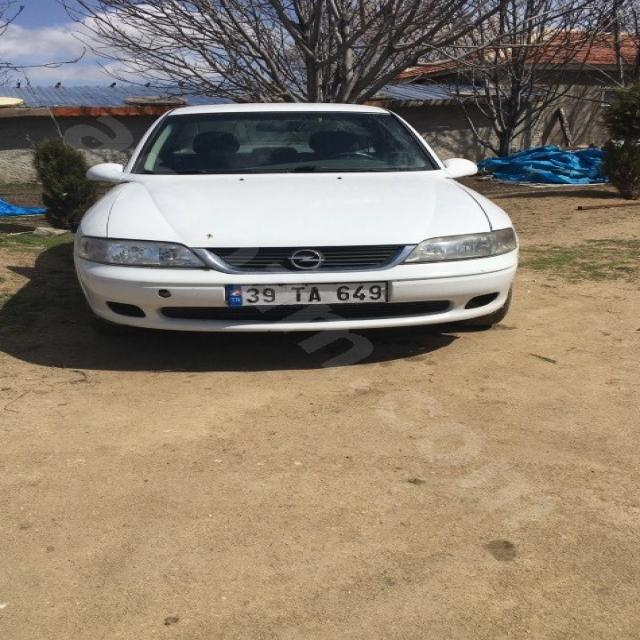license_plate: (228, 281, 389, 306)
